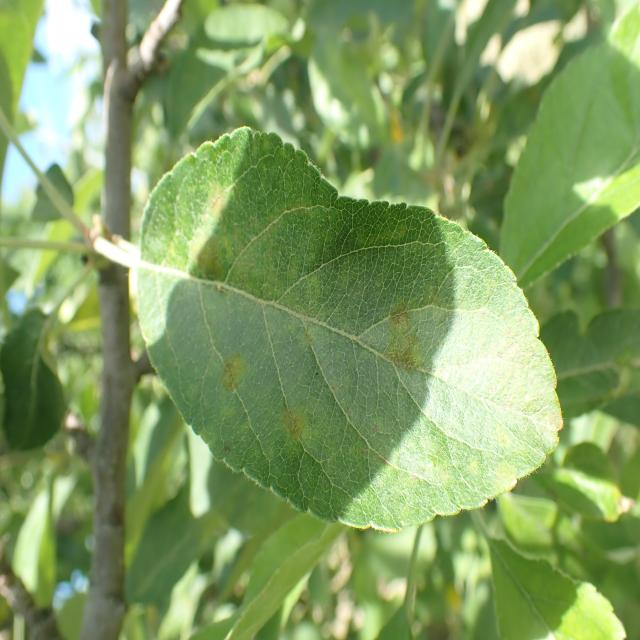scab: (157, 154, 560, 502)
